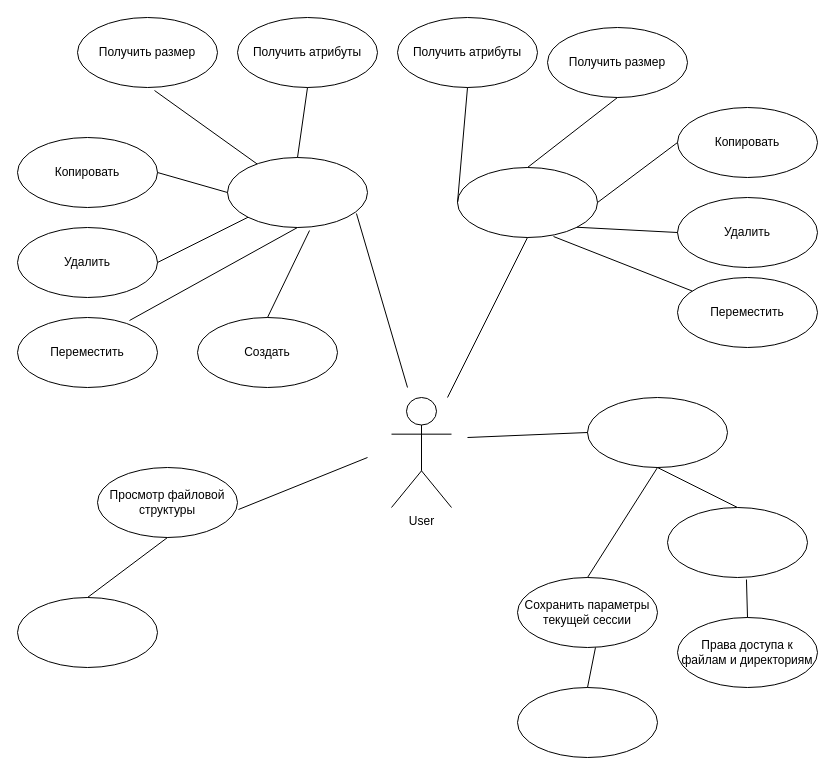
This 835x775 diagram has some shape labels left out. Each missing label, with the centre of its shape:
Авторизоваться для просмотра скрытых и системных файлов: the point at 737,542
Взаимодействие с директорией: the point at 297,192
Взаимодействие с системой: the point at 657,432
Взаимодействие с файлом: the point at 527,202
Поменять текущую директорию: the point at 87,632
Последняя открытая папка: the point at 587,722
